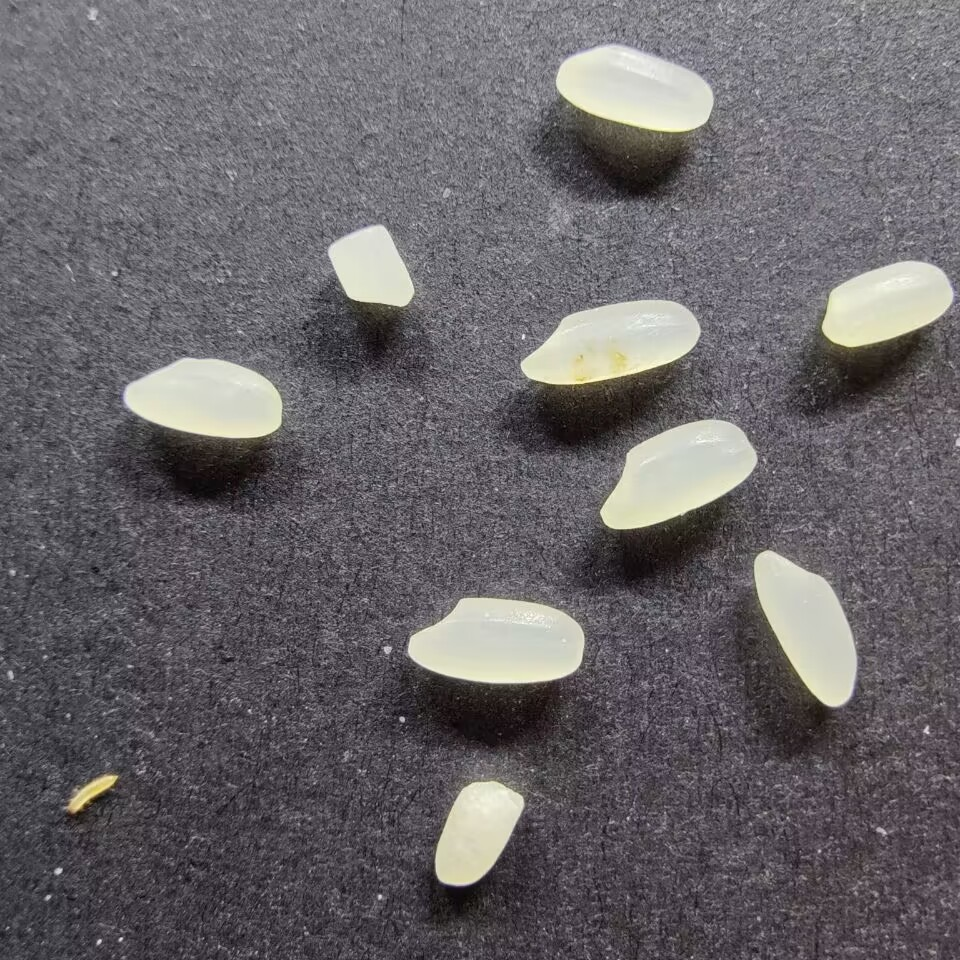broken: (432, 778, 527, 890), (323, 223, 418, 308)
others: (61, 770, 121, 823)
rice: (598, 417, 759, 532), (750, 549, 861, 708), (402, 596, 586, 687), (518, 297, 702, 386), (553, 43, 716, 134), (120, 355, 285, 441), (818, 259, 955, 349)
